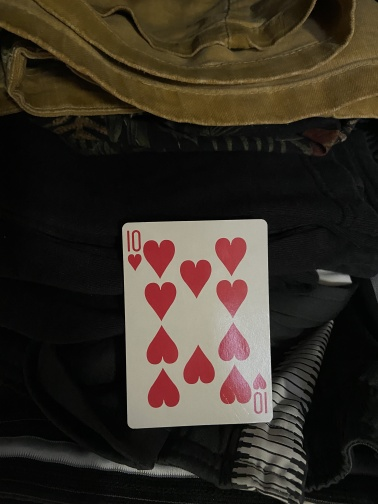ten: (120, 217, 274, 431)
